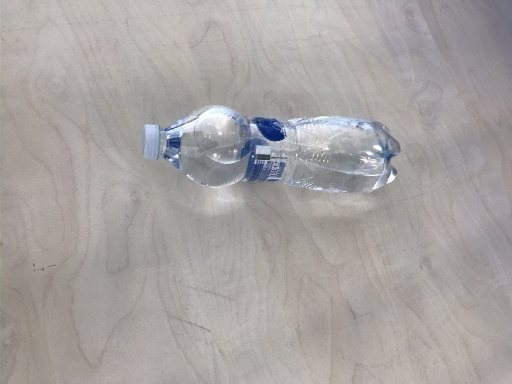Acqua: (138, 103, 401, 194)
